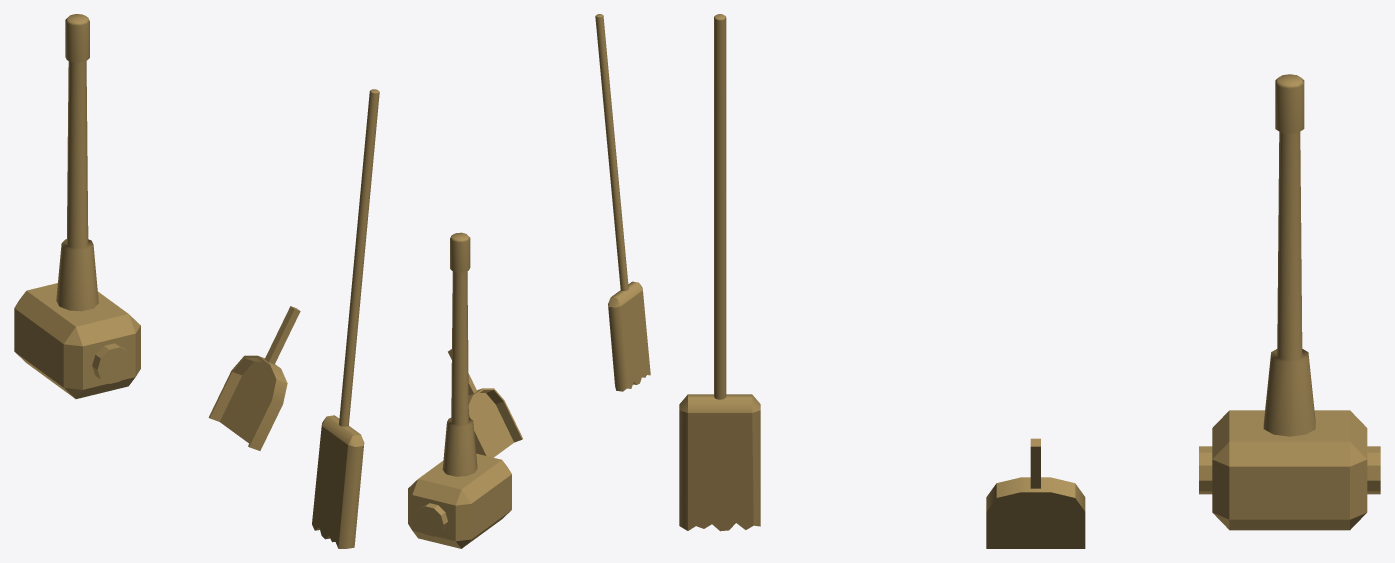
Rendered from Escoba.fbx.
3 renders of one model, left to right at view 1: azimuth 30°, elevation 25°; view 2: azimuth 150°, elevation 25°; view 3: azimuth 270°, elevation 25°, orthographic. The views are drawn at different scales.
Visible parts, largest first — view 1: pCube251, pCylinder240, pCube254; view 2: pCube251, pCylinder240, pCube254; view 3: pCube251, pCylinder240, pCube254.
Boxes of the visible parts, x1,y1,x2,y2 form: pCube251: (14, 14, 140, 398); pCylinder240: (312, 89, 379, 548); pCube254: (208, 306, 300, 450); pCube251: (408, 232, 511, 548); pCylinder240: (595, 14, 650, 391); pCube254: (448, 349, 522, 457); pCube251: (1199, 74, 1380, 530); pCylinder240: (679, 14, 760, 531); pCube254: (986, 438, 1085, 548).
Size of the model in its own units: 0.3931 by 1.06 by 1.26.
